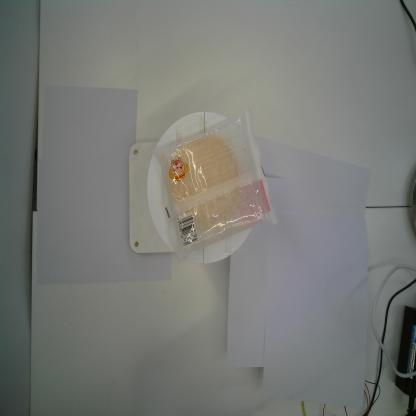Dessert: (153, 107, 277, 264)
